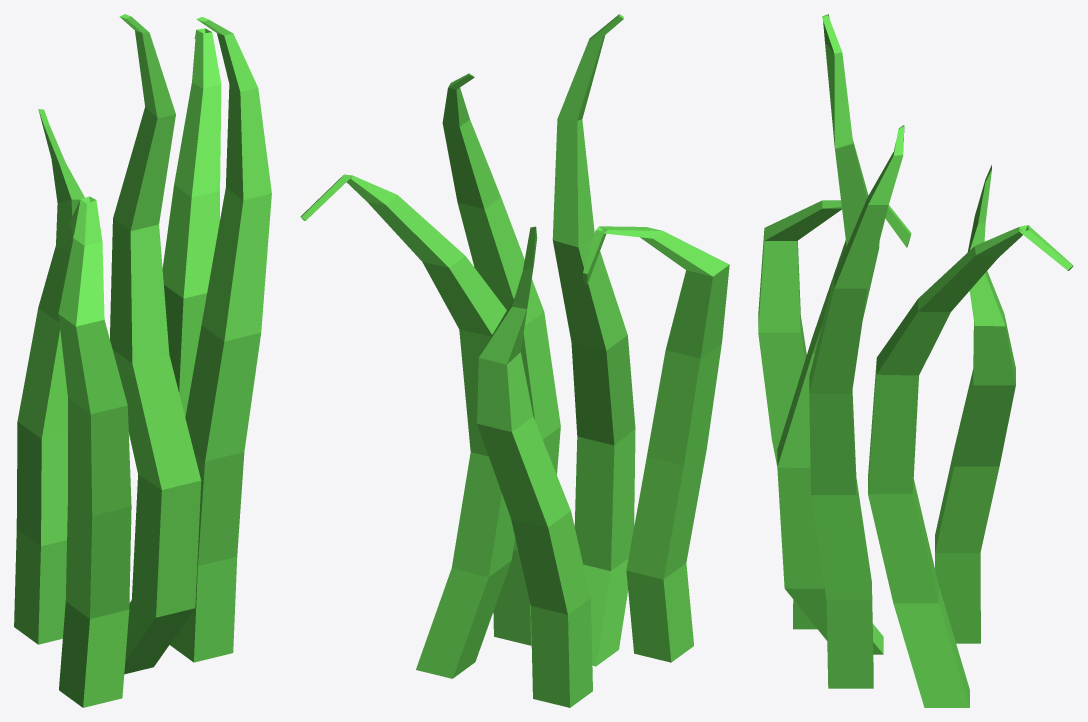
File: grass.fbx
The picture shows the model from 3 angles, left to right: view 1: azimuth 30°, elevation 25°; view 2: azimuth 150°, elevation 25°; view 3: azimuth 270°, elevation 25°; orthographic projection. The views are drawn at different scales.
Parts seen in each view (by area): view 1: Cube.009, Cube.005, Cube.008, Cube.007, Cube.006; view 2: Cube.009, Cube.008, Cube.007, Cube.006, Cube.005; view 3: Cube.006, Cube.005, Cube.007, Cube.009, Cube.008.
Part boxes in pixels (x1=…): Cube.009: x1=110, y1=14, x2=201, y2=674; Cube.005: x1=169, y1=17, x2=271, y2=662; Cube.008: x1=58, y1=196, x2=131, y2=707; Cube.007: x1=14, y1=109, x2=84, y2=644; Cube.006: x1=162, y1=28, x2=221, y2=416; Cube.009: x1=552, y1=14, x2=635, y2=666; Cube.008: x1=583, y1=226, x2=729, y2=662; Cube.007: x1=477, y1=226, x2=592, y2=707; Cube.006: x1=300, y1=174, x2=515, y2=678; Cube.005: x1=442, y1=73, x2=560, y2=645; Cube.006: x1=868, y1=225, x2=1073, y2=707; Cube.005: x1=809, y1=125, x2=904, y2=688; Cube.007: x1=935, y1=165, x2=1015, y2=643; Cube.009: x1=777, y1=14, x2=883, y2=654; Cube.008: x1=758, y1=200, x2=911, y2=629.
Bounding box in the file's own units: 49.9 × 109 × 49.66.
